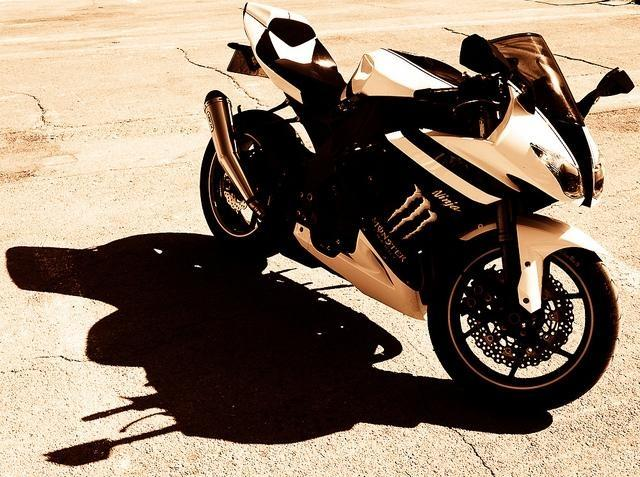motorcycle: (197, 12, 638, 414)
